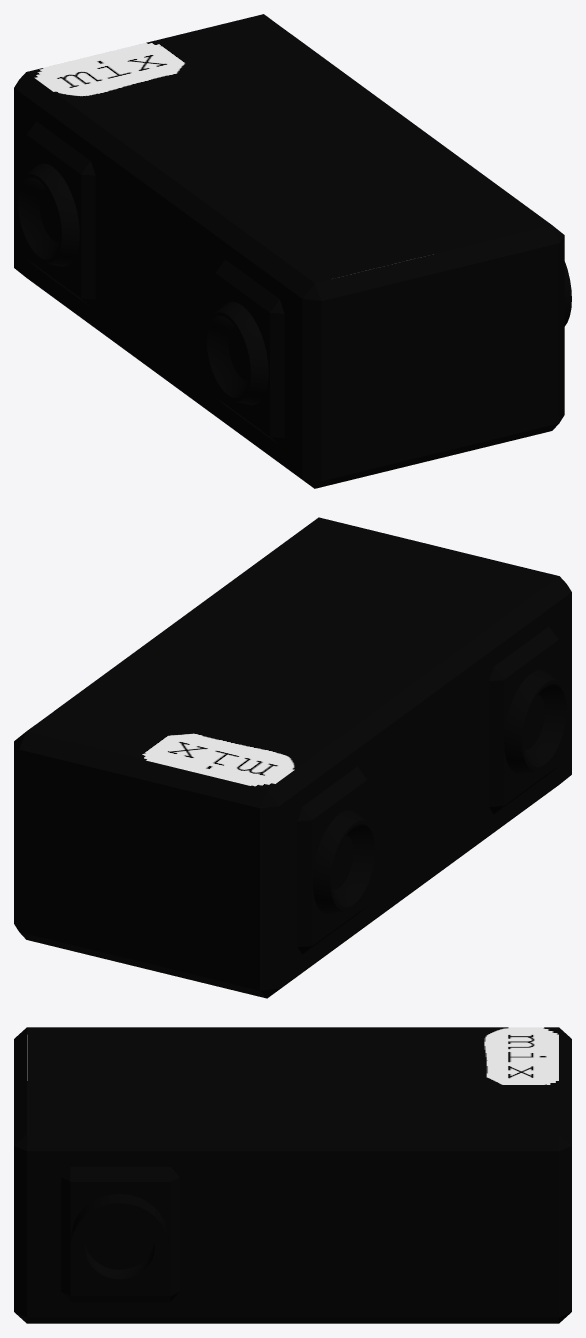
Rendered from mix_node.glb.
3 views of the same model, one above another, from view 1: azimuth 30°, elevation 25°; view 2: azimuth 150°, elevation 25°; view 3: azimuth 270°, elevation 25° (orthographic). The views are drawn at different scales.
Visible parts, largest first — view 1: MixNode; view 2: MixNode; view 3: MixNode.
Part boxes in pixels (x1,y1,x2,y2): MixNode: [14, 14, 571, 488]; MixNode: [14, 517, 571, 998]; MixNode: [14, 1027, 571, 1323].
Bounding box in the file's own units: 0.9686 × 0.6 × 1.6.
Materials: 1 (1 with a texture image).
